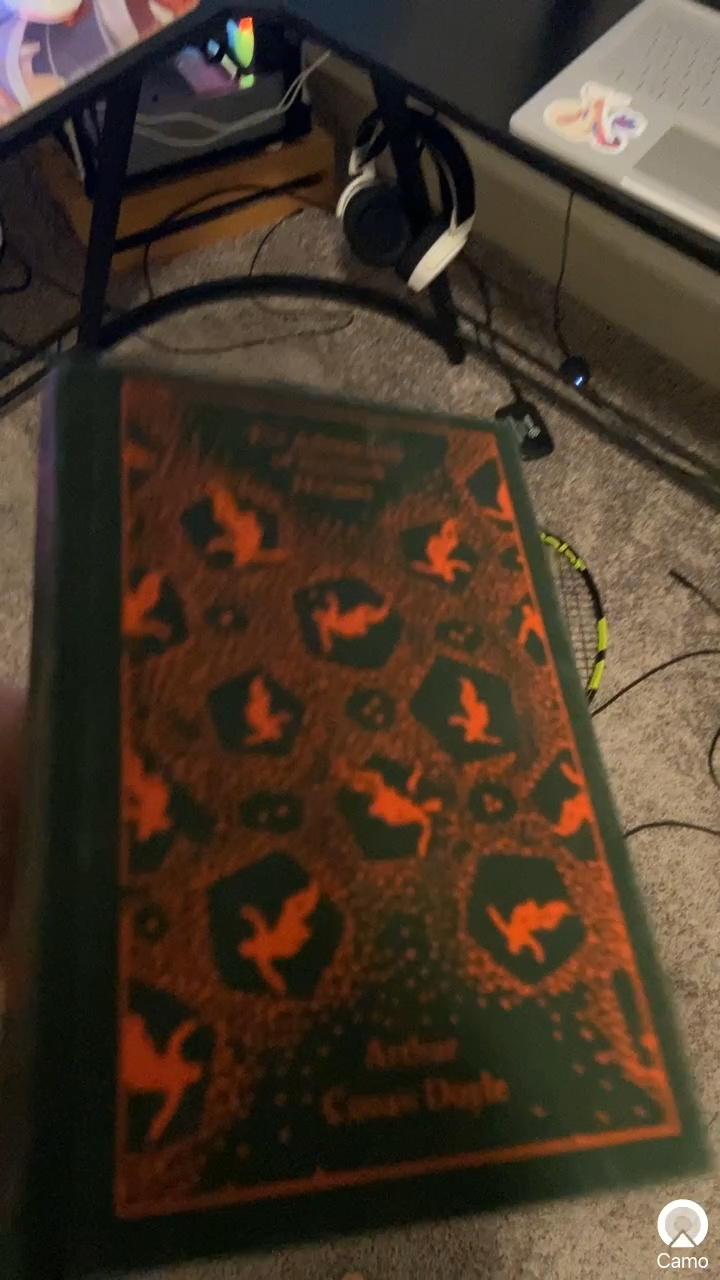Book: (15, 344, 720, 1278)
